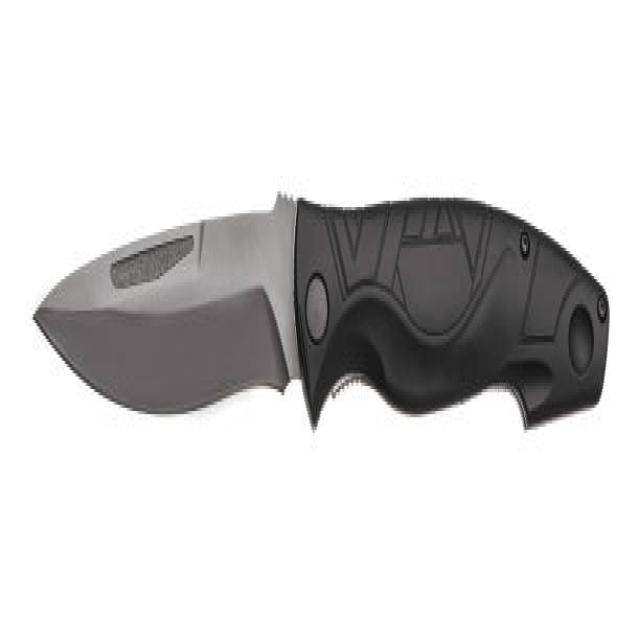knife: (31, 185, 614, 497)
